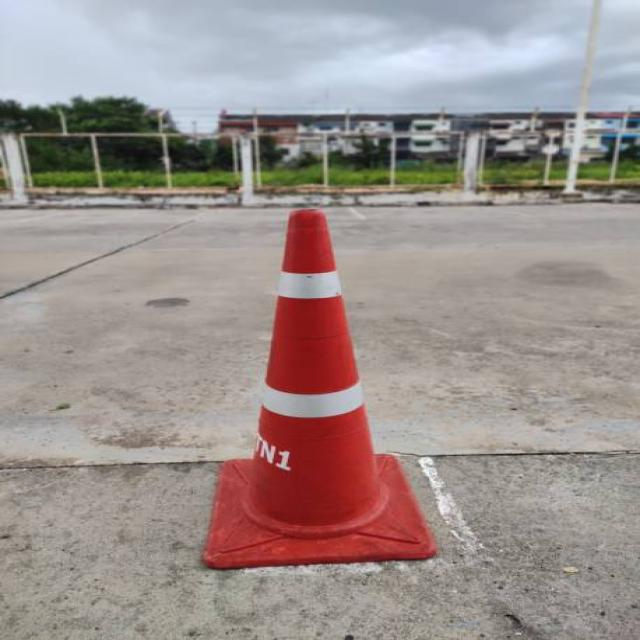Traffic Cone: (144, 186, 484, 600)
